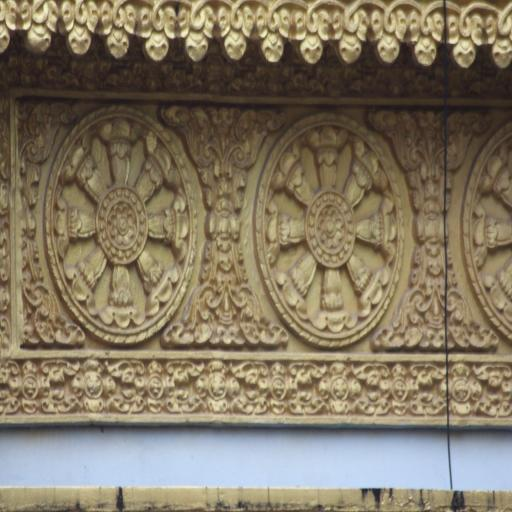hoa: (318, 354, 356, 418), (200, 360, 237, 419), (11, 365, 52, 417), (104, 194, 141, 251), (258, 360, 296, 414), (141, 365, 179, 415), (447, 362, 479, 415), (384, 361, 414, 417), (76, 363, 109, 410), (315, 205, 348, 249)
la: (65, 135, 109, 200), (349, 126, 378, 213), (98, 118, 136, 184), (443, 1, 483, 63), (310, 122, 345, 192), (371, 0, 408, 66), (347, 250, 384, 316), (134, 250, 176, 308), (354, 198, 396, 254), (150, 198, 196, 248), (292, 1, 329, 61), (318, 261, 348, 334), (13, 0, 60, 46), (333, 1, 369, 61), (280, 148, 316, 208), (55, 198, 99, 246), (218, 2, 254, 60), (280, 258, 318, 312), (106, 261, 137, 327), (412, 4, 446, 64), (268, 204, 308, 254), (482, 0, 512, 65), (70, 250, 109, 300), (145, 126, 170, 203), (259, 0, 289, 61), (183, 0, 213, 59), (102, 0, 134, 55), (141, 0, 172, 54), (66, 0, 98, 51)
